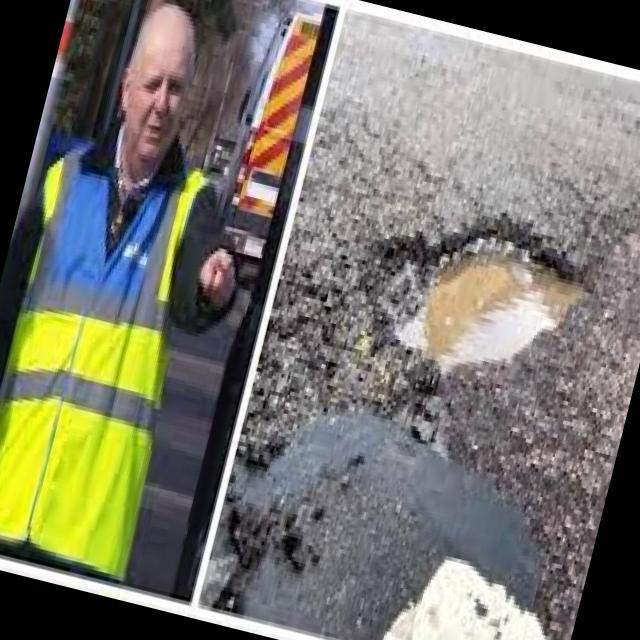Pothole: (377, 219, 586, 379)
